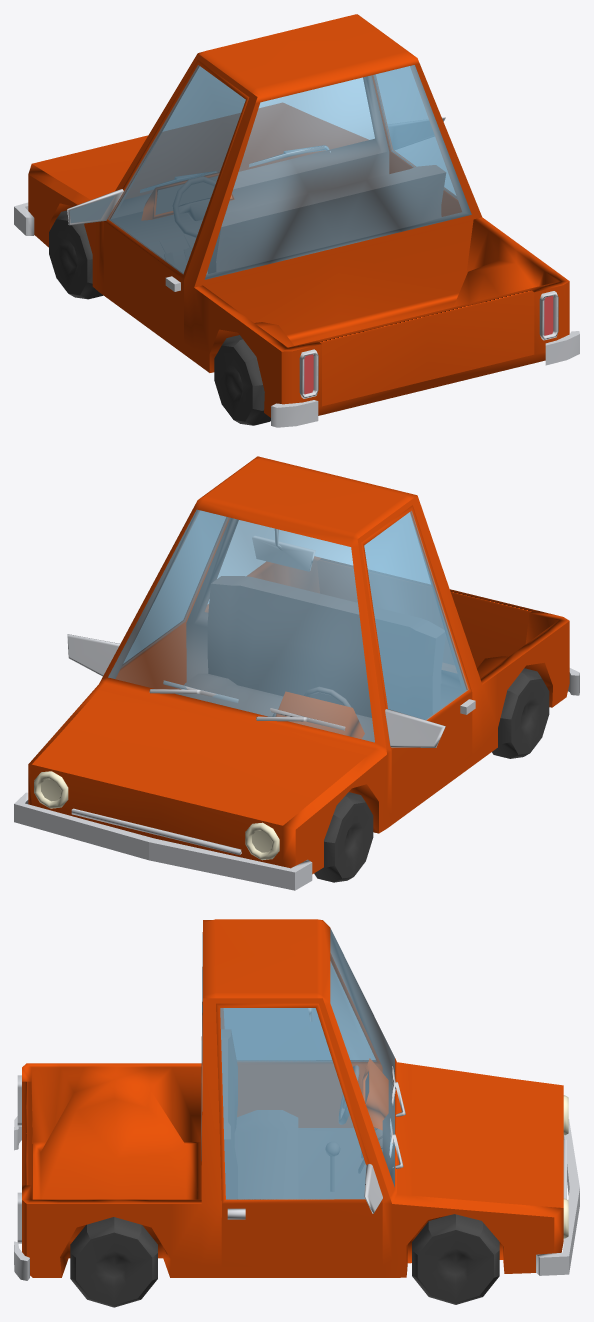
File: KFB_CVP1_pickup.glb
3 views of the same model, one above another, from view 1: azimuth 30°, elevation 25°; view 2: azimuth 150°, elevation 25°; view 3: azimuth 270°, elevation 25° (orthographic).
Visible parts, largest first — view 1: CarMesh, WindowBack.2, Back, Window.2, Seat, Interior, Hood, WindowFront.2, DoorL, Window, WheelRL, WheelFL (+11 smaller); view 2: CarMesh, WindowFront.2, Seat, Hood, Window.2, Back, BumperFront, DoorL, WindowBack.2, Window, Interior, WheelRL (+11 smaller); view 3: CarMesh, Window, Hood, DoorR, Seat, Interior, Window.2, WindowFront.2, DoorL, WheelFR, WheelRR, BumperFront (+4 smaller).
Part boxes in pixels (x1,y1,x2,y2): CarMesh: (28, 14, 569, 417); WindowBack.2: (205, 65, 471, 279); Back: (317, 288, 534, 406); Window.2: (108, 65, 245, 274); Seat: (207, 165, 445, 273); Interior: (110, 65, 471, 279); Hood: (32, 103, 365, 199); WindowFront.2: (239, 78, 374, 171); DoorL: (103, 60, 249, 343); Window: (373, 66, 457, 199); WheelRL: (214, 335, 270, 425); WheelFL: (49, 210, 103, 299); CarMesh: (28, 456, 569, 874); WindowFront.2: (108, 509, 374, 742); Seat: (179, 576, 445, 742); Hood: (32, 690, 367, 825); Window.2: (364, 511, 468, 720); Back: (317, 558, 533, 668); BumperFront: (14, 792, 312, 890); DoorL: (361, 505, 472, 814); WindowBack.2: (205, 520, 357, 612); Window: (121, 511, 228, 667); Interior: (108, 509, 465, 707); WheelRL: (492, 668, 549, 758); CarMesh: (22, 919, 563, 1277); Window: (220, 1008, 366, 1199); Hood: (411, 1064, 563, 1207); DoorR: (216, 1003, 382, 1267); Seat: (221, 1029, 297, 1198); Interior: (201, 928, 394, 1198); Window.2: (224, 961, 376, 1061); WindowFront.2: (330, 928, 394, 1186); DoorL: (220, 953, 382, 1127); WheelFR: (412, 1214, 499, 1304); WheelRR: (70, 1217, 157, 1307); BumperFront: (536, 1119, 579, 1275).
Size of the model in its own units: 2.62 by 1.87 by 3.4.
